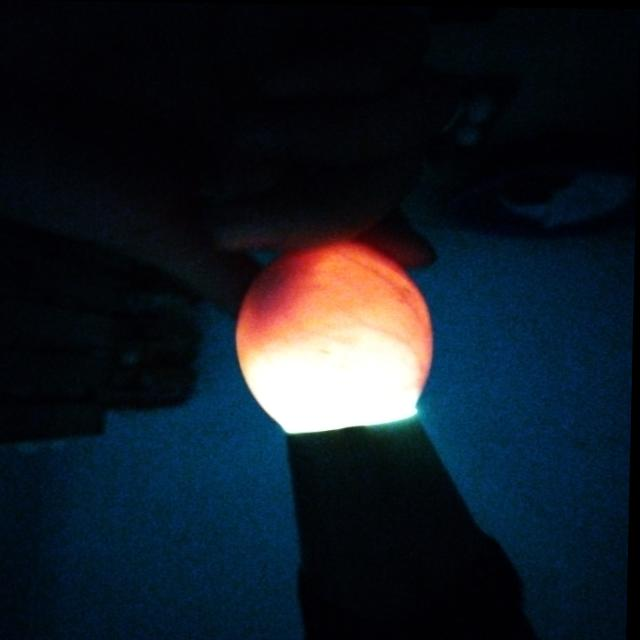Embriao: (236, 225, 404, 356)
